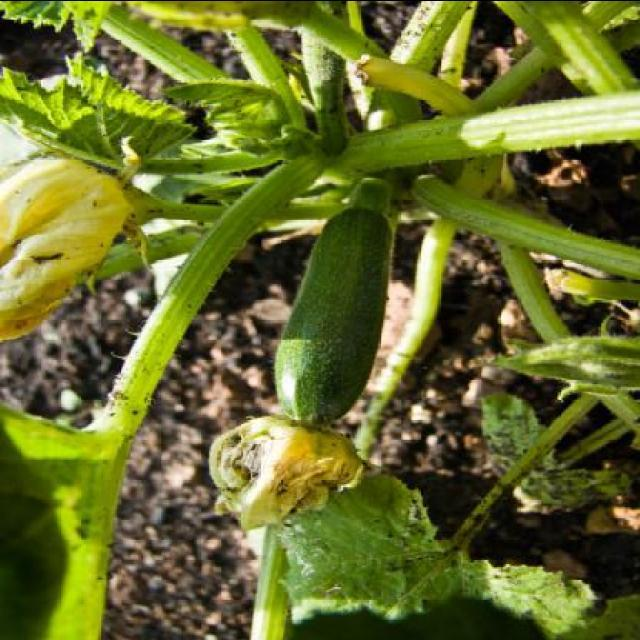Zucchini: (267, 192, 396, 434)
